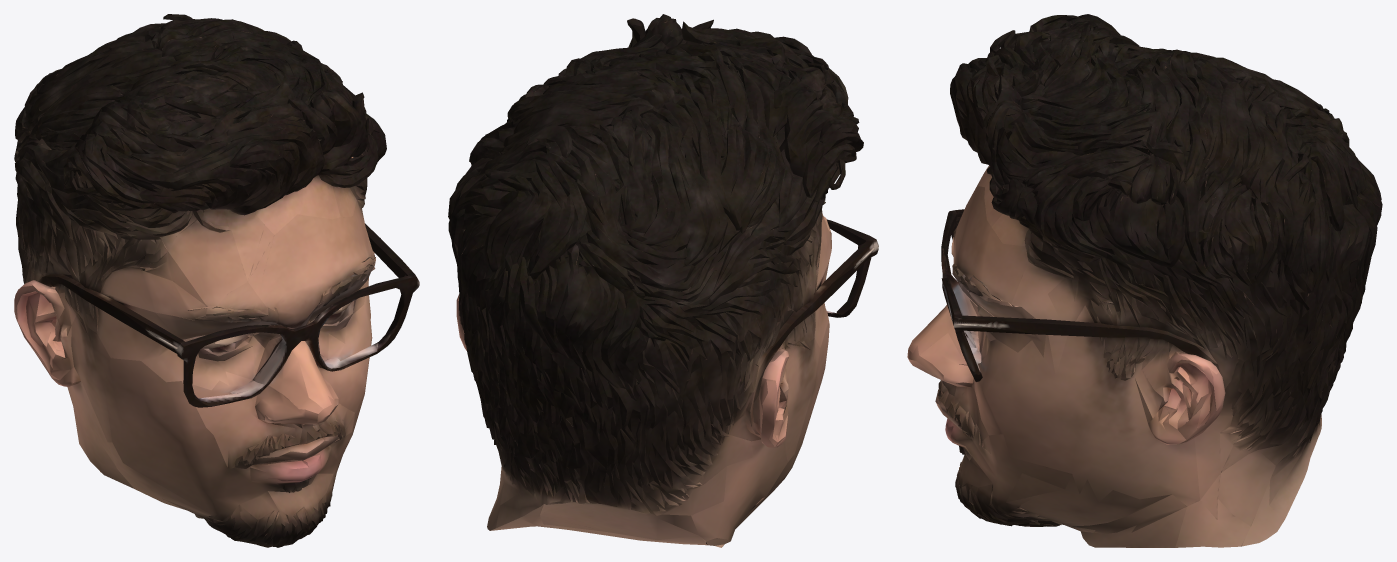
The model's file is meshy.glb.
3 renders of one model, left to right at view 1: azimuth 30°, elevation 25°; view 2: azimuth 150°, elevation 25°; view 3: azimuth 270°, elevation 25°, orthographic. The views are drawn at different scales.
Size of the model in its own units: 1.36 by 1.9 by 1.74.
Materials: 1 (1 with a texture image).
